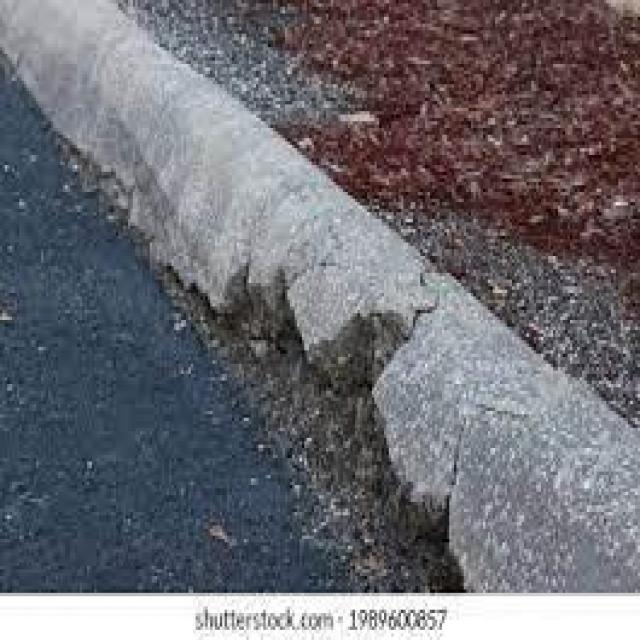curb: (8, 8, 637, 579)
